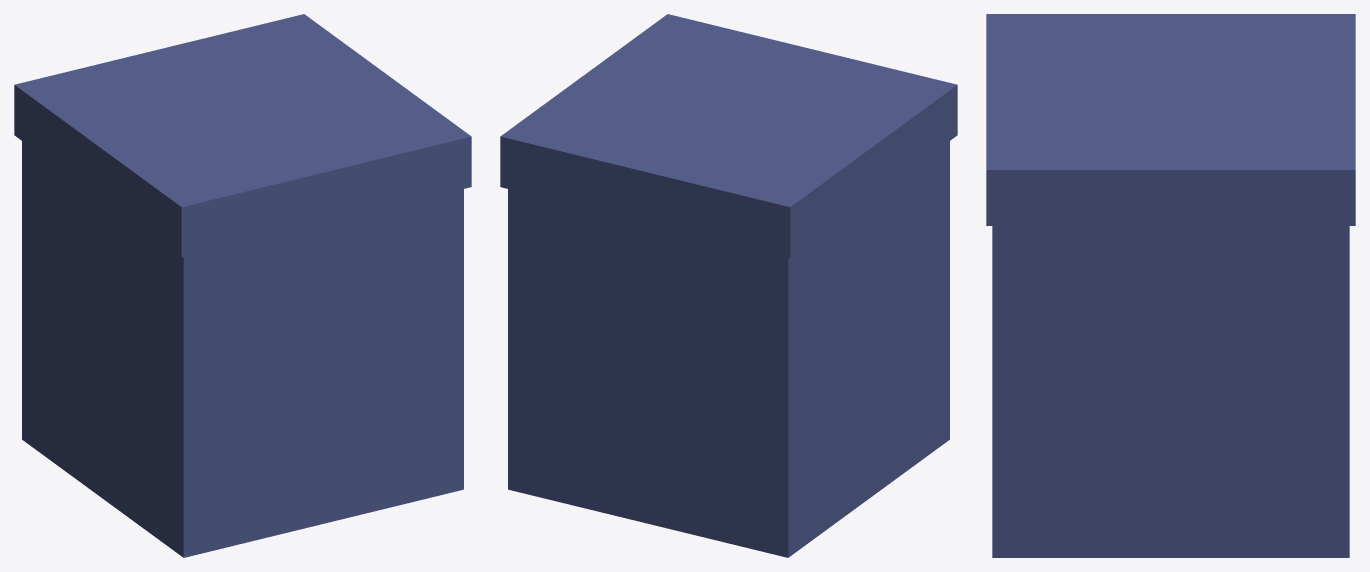
The model's file is escolar_manga_sup.glb.
The picture shows the model from 3 angles, left to right: view 1: azimuth 30°, elevation 25°; view 2: azimuth 150°, elevation 25°; view 3: azimuth 270°, elevation 25°; orthographic projection. The views are drawn at different scales.
Parts seen in each view (by area): view 1: escolar_manga_sup; view 2: escolar_manga_sup; view 3: escolar_manga_sup.
Part boxes in pixels (box(x1,y1,x2,y2)): escolar_manga_sup: box(14, 14, 471, 557); escolar_manga_sup: box(500, 14, 957, 557); escolar_manga_sup: box(986, 14, 1355, 557).
Size of the model in its own units: 0.3 by 0.35 by 0.3.
